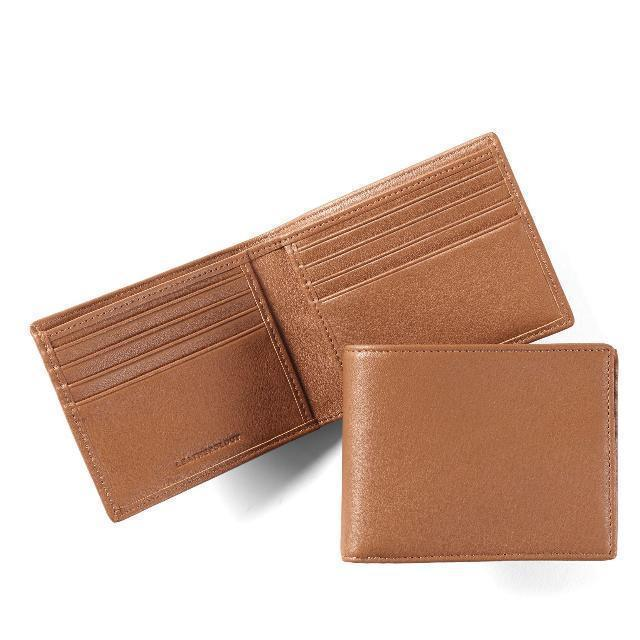wallet: (28, 122, 580, 522), (342, 344, 622, 566)
